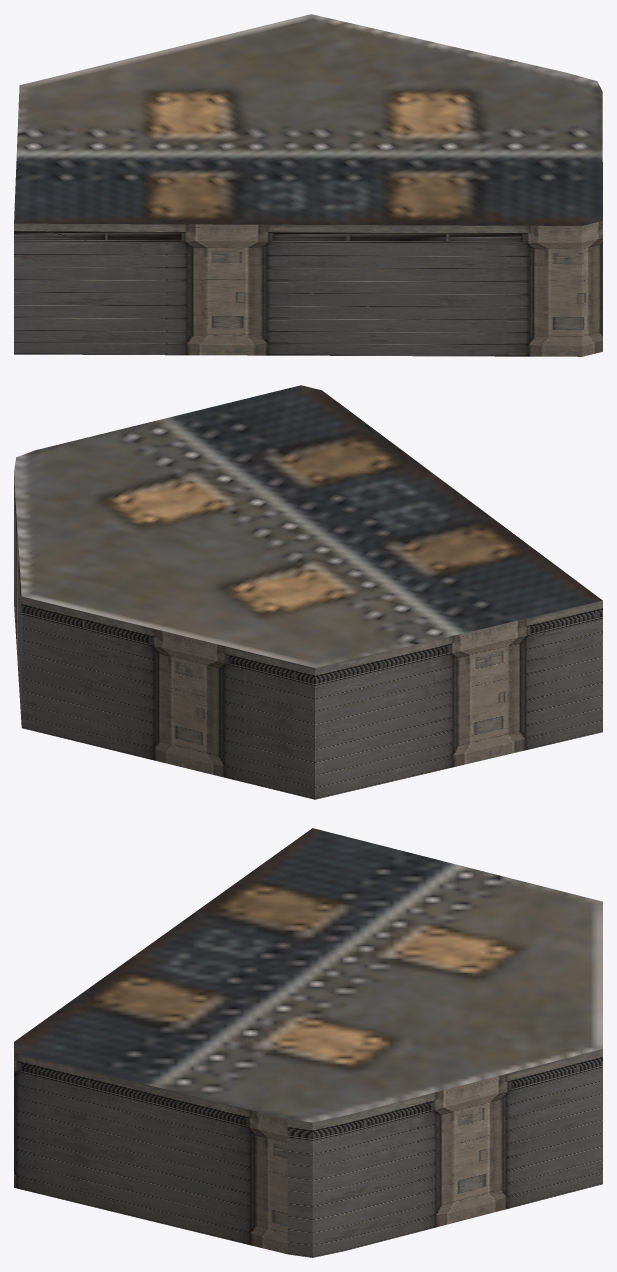
Rendered from hangar_medium_a_39.glb.
The picture shows the model from 3 angles, top to bottom: view 1: azimuth 30°, elevation 25°; view 2: azimuth 150°, elevation 25°; view 3: azimuth 270°, elevation 25°; orthographic projection. The views are drawn at different scales.
Visible parts, largest first — view 1: buildings/saxarba/hangar_medium/hangar_medium_a_39; view 2: buildings/saxarba/hangar_medium/hangar_medium_a_39; view 3: buildings/saxarba/hangar_medium/hangar_medium_a_39.
Part boxes in pixels (x1=…): buildings/saxarba/hangar_medium/hangar_medium_a_39: x1=14, y1=14, x2=602, y2=356; buildings/saxarba/hangar_medium/hangar_medium_a_39: x1=14, y1=385, x2=602, y2=799; buildings/saxarba/hangar_medium/hangar_medium_a_39: x1=14, y1=828, x2=602, y2=1257.
Bounding box in the file's own units: 84 × 18 × 71.
